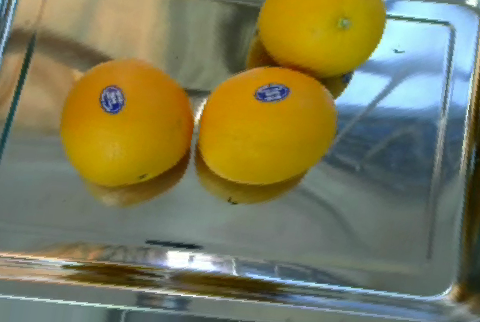Orange: (58, 59, 194, 187), (196, 65, 339, 185), (256, 0, 385, 75)
